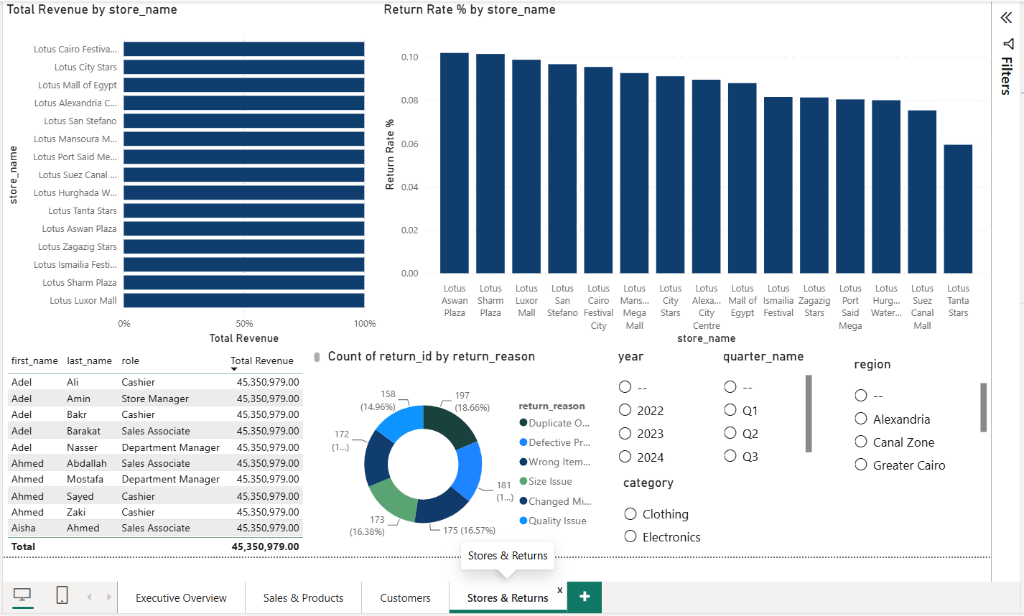

Layout of this report page (visuals, bound fields, positions):
{"tool":"powerbi","page":{"name":"Stores & Returns","canvas":[1280,720],"ordinal":3},"visuals":[{"type":"hundredPercentStackedBarChart","fields":{"Y":["fact_orders.Total Revenue"],"Category":["dim_stores.store_name"]},"box":[0,0,488.4,448.9],"z":0},{"type":"clusteredColumnChart","fields":{"Category":["dim_stores.store_name"],"Y":["fact_orders.Return Rate %"]},"box":[488.4,0,791.9,448.9],"z":1000},{"type":"donutChart","fields":{"Category":["fact_returns.return_reason"],"Y":["CountNonNull(fact_returns.return_id)"]},"box":[416.4,448.9,362.8,271],"z":2000},{"type":"tableEx","fields":{"Values":["dim_employees.first_name","dim_employees.last_name","dim_employees.role","fact_orders.Total Revenue"]},"box":[0,448.9,416.4,271],"z":3000},{"type":"listSlicer","fields":{"Values":["dim_date.year"]},"box":[791.9,448.9,93.2,163.7],"z":4000},{"type":"listSlicer","fields":{"Values":["dim_date.quarter_name"]},"box":[927.4,448.9,125.6,163.7],"z":5000},{"type":"listSlicer","fields":{"Values":["dim_customers.region"]},"box":[1098.2,458.8,182.1,163.7],"z":6000},{"type":"listSlicer","fields":{"Values":["dim_products.category"]},"box":[798.9,612.6,299.3,103],"z":7000}]}

Visuals, with their boxes on the page's 1280x720 design canvas (x1, y1, x2, y2). These are canvas units, not pixel positions in the 1024x616 screenshot, which may show the page scaled, cropped or inside an application window:
hundredPercentStackedBarChart - fact_orders.Total Revenue x dim_stores.store_name: Rect(0, 0, 488, 449)
clusteredColumnChart - dim_stores.store_name x fact_orders.Return Rate %: Rect(488, 0, 1280, 449)
donutChart - fact_returns.return_reason x CountNonNull(fact_returns.return_id): Rect(416, 449, 779, 720)
tableEx - dim_employees.first_name x dim_employees.last_name: Rect(0, 449, 416, 720)
listSlicer - dim_date.year: Rect(792, 449, 885, 613)
listSlicer - dim_date.quarter_name: Rect(927, 449, 1053, 613)
listSlicer - dim_customers.region: Rect(1098, 459, 1280, 622)
listSlicer - dim_products.category: Rect(799, 613, 1098, 716)
